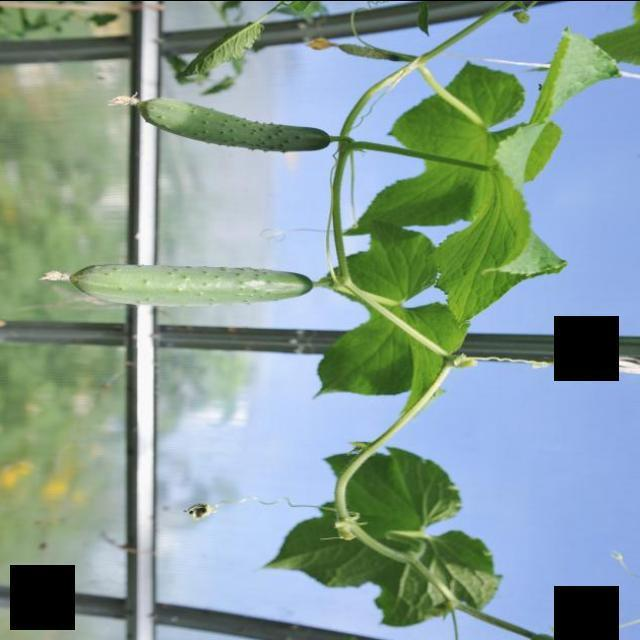cucumber: (137, 96, 333, 155), (68, 262, 314, 308)
